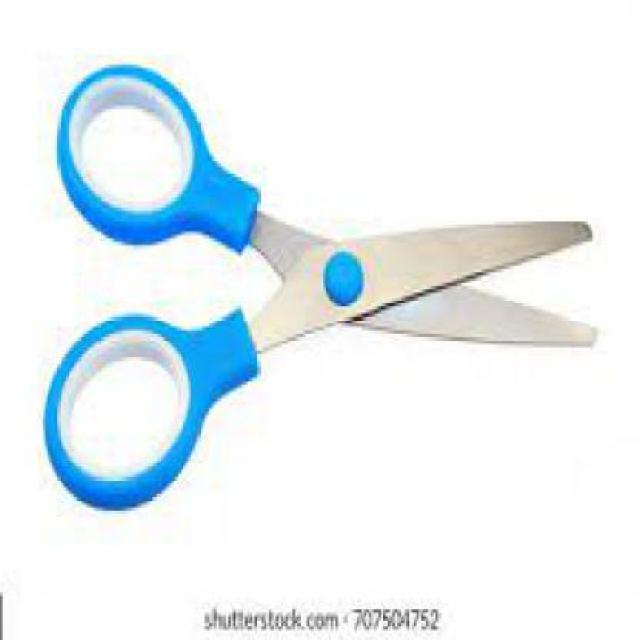scissors: (42, 64, 598, 514)
